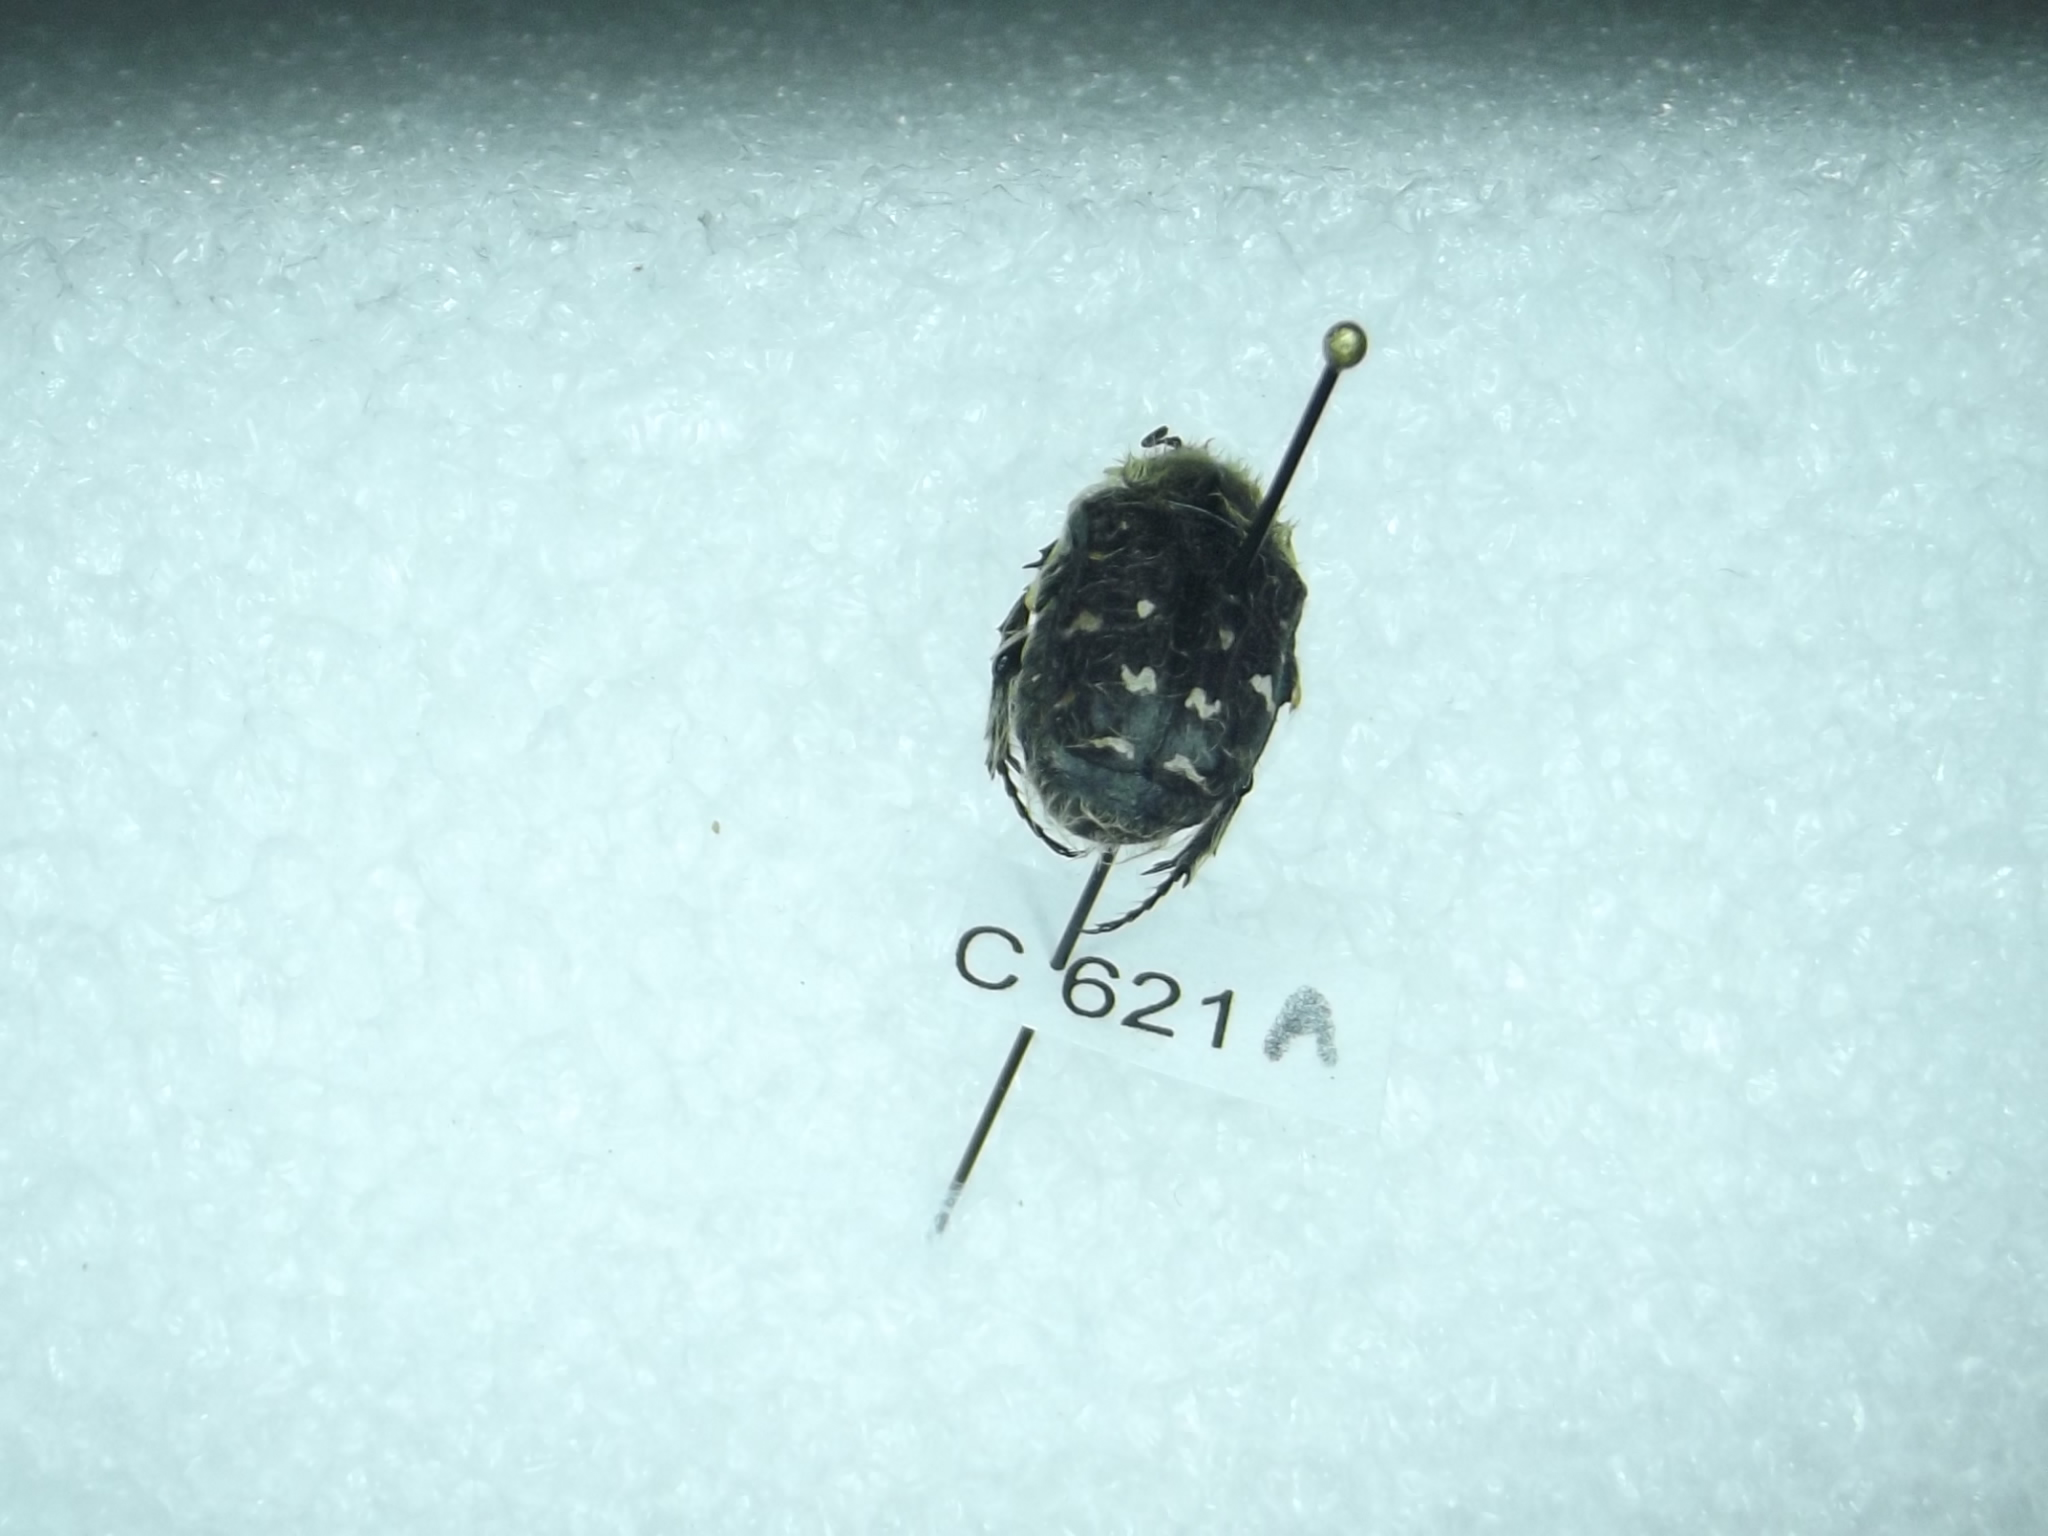Tropinota_senicula: (947, 421, 1348, 942)
